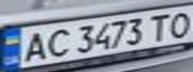3: (124, 15, 151, 45), (72, 22, 96, 54)
4: (93, 19, 115, 52)
7: (109, 17, 130, 48)
A: (18, 28, 51, 63)
C: (42, 26, 72, 60)
O: (163, 8, 193, 38)
T: (145, 11, 175, 42)
